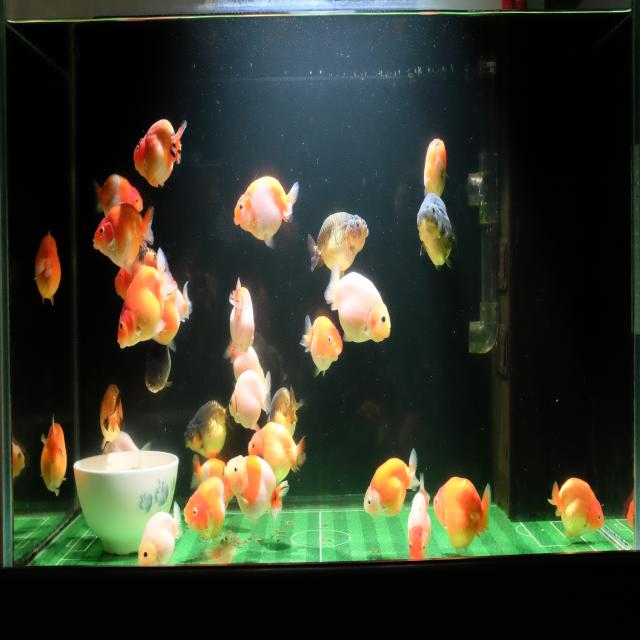Tilapia: (115, 245, 178, 352), (322, 260, 393, 348), (233, 173, 300, 252), (225, 452, 290, 531), (432, 471, 493, 555), (91, 201, 158, 275), (306, 208, 370, 282), (362, 444, 421, 520), (132, 114, 188, 194), (546, 473, 605, 545), (246, 420, 310, 486), (416, 190, 458, 278), (148, 277, 195, 348), (110, 244, 164, 304), (182, 395, 233, 458), (137, 498, 182, 568), (182, 480, 230, 545), (228, 368, 272, 437), (225, 274, 258, 355), (190, 451, 236, 508), (92, 170, 144, 218), (404, 472, 432, 560), (31, 230, 62, 306), (38, 417, 67, 496), (267, 382, 304, 436), (422, 135, 449, 206), (141, 345, 174, 400), (225, 337, 265, 380), (100, 380, 124, 443), (99, 431, 152, 454)
